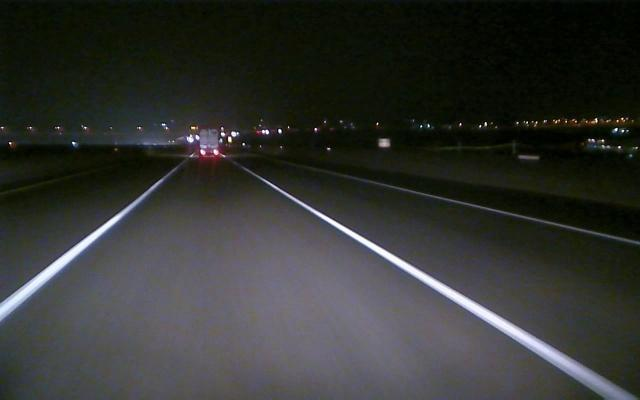lane: (263, 178, 627, 395), (4, 181, 162, 319), (354, 176, 640, 246), (0, 166, 109, 196)
